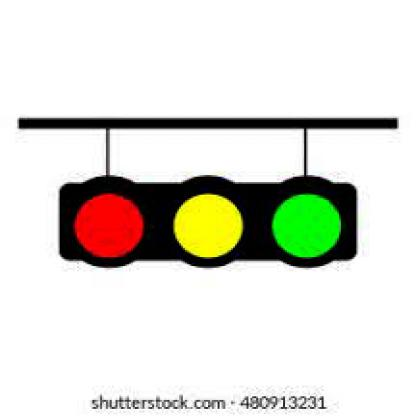traffic-light: (60, 177, 366, 268)
